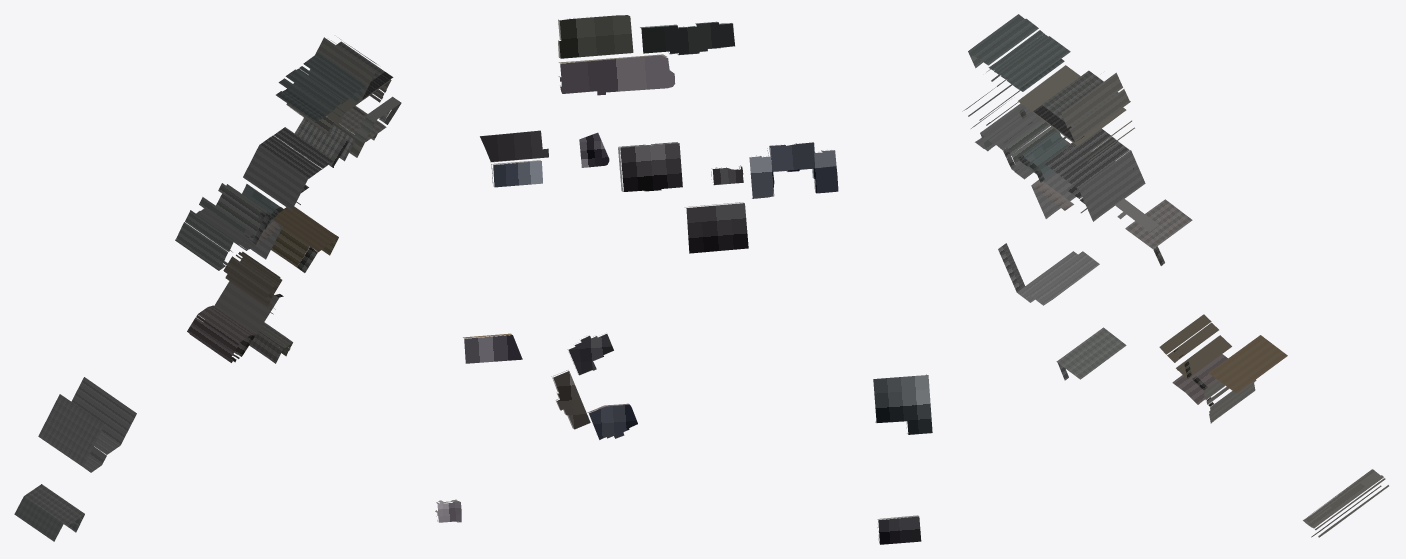
The model's file is tile_LOD3_r2_c6.glb.
The picture shows the model from 3 angles, left to right: view 1: azimuth 30°, elevation 25°; view 2: azimuth 150°, elevation 25°; view 3: azimuth 270°, elevation 25°; orthographic projection. The views are drawn at different scales.
Size of the model in its own units: 300 by 313 by 251.
Materials: 83 (83 with a texture image).
